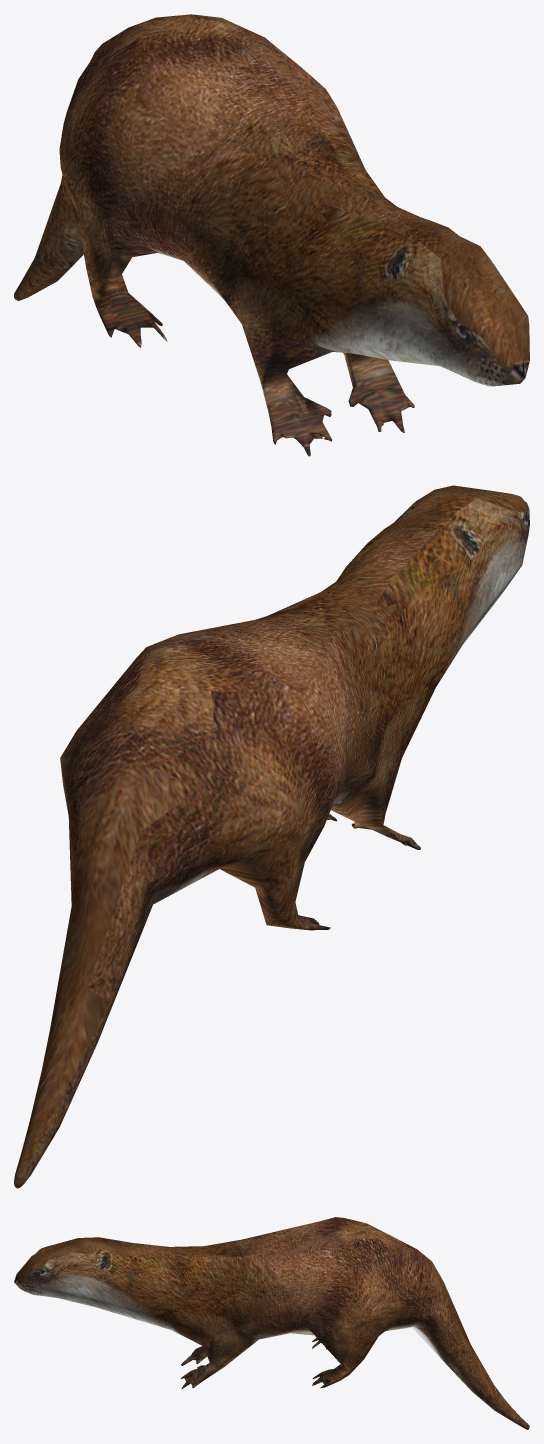
3 renders of one model, top to bottom at view 1: azimuth 30°, elevation 25°; view 2: azimuth 150°, elevation 25°; view 3: azimuth 270°, elevation 25°, orthographic. The views are drawn at different scales.
Visible parts, largest first — view 1: 动物50; view 2: 动物50; view 3: 动物50.
Part boxes in pixels (x1=…): 动物50: x1=14, y1=14, x2=529, y2=456; 动物50: x1=14, y1=485, x2=529, y2=1188; 动物50: x1=14, y1=1217, x2=529, y2=1429.
Bounding box in the file's own units: 104 × 174 × 401.
